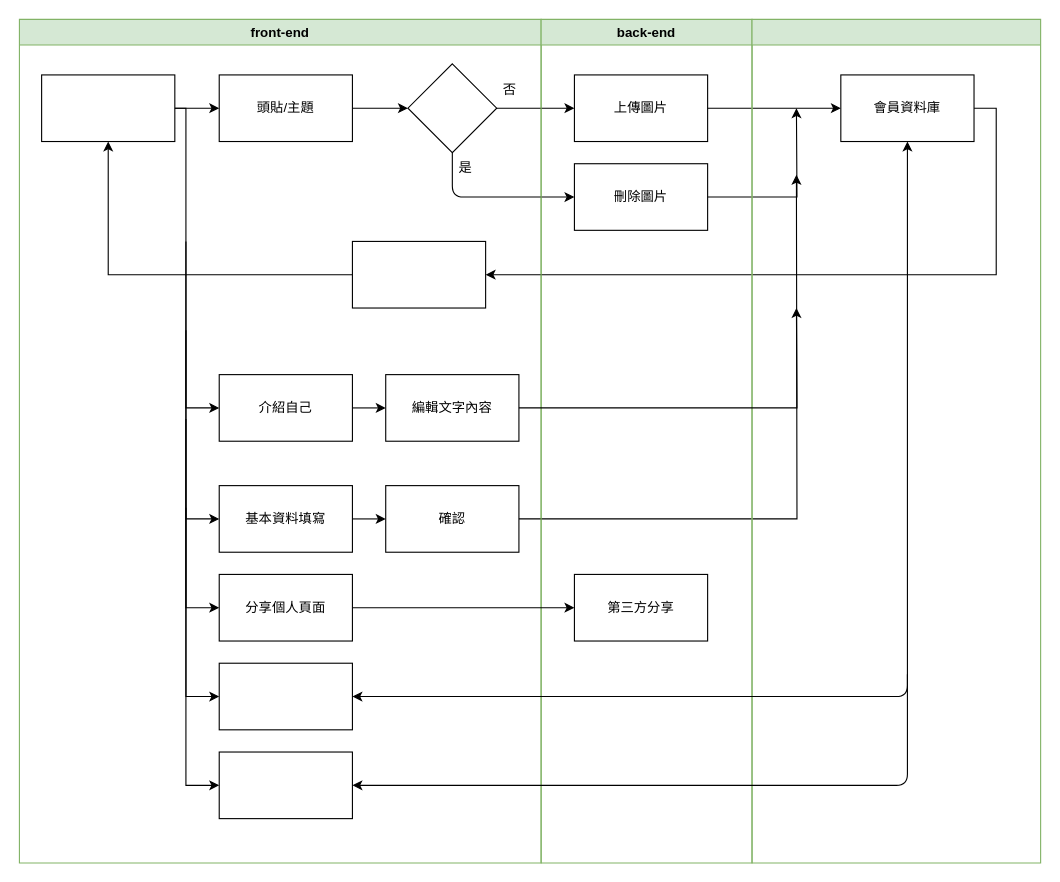
Image size: 1060x882. Some labels were removed from this diagram. The shapes that lost their labels are listed below. From the top down, each one's box as (x1, y1, x2, y2) in pixels, then its label:
(41, 74, 175, 142): 會員中心
(407, 63, 497, 153): 已上傳
(351, 240, 486, 308): 頁面內容改變
(751, 18, 1041, 863): DB
(218, 662, 352, 730): 我的課
(218, 751, 352, 819): 預覽我的檔案
